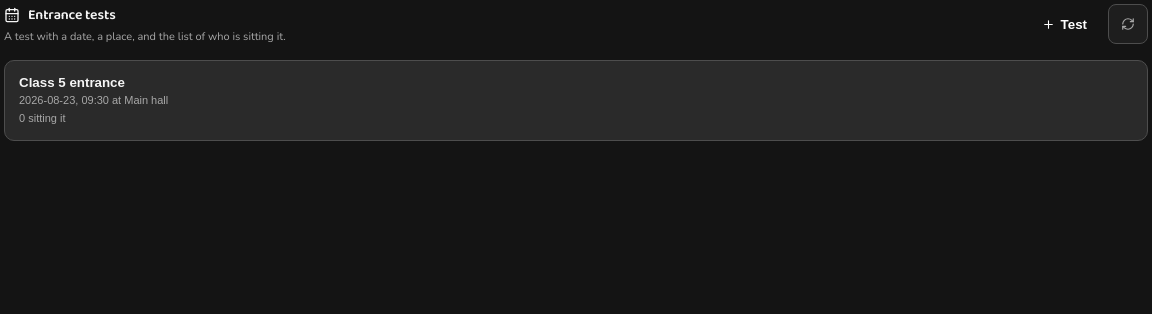
Test: an empty list says so rather than showing an empty table
Click the text "Class 5 entrance" at (72, 82), box [19,75,125,90]
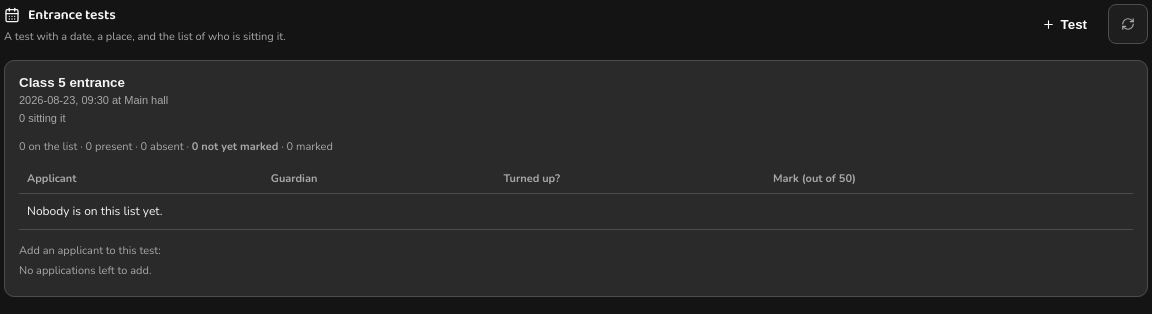
Check: the text "Nobody is on this list yet." is shown, box [19,194,1133,230]
